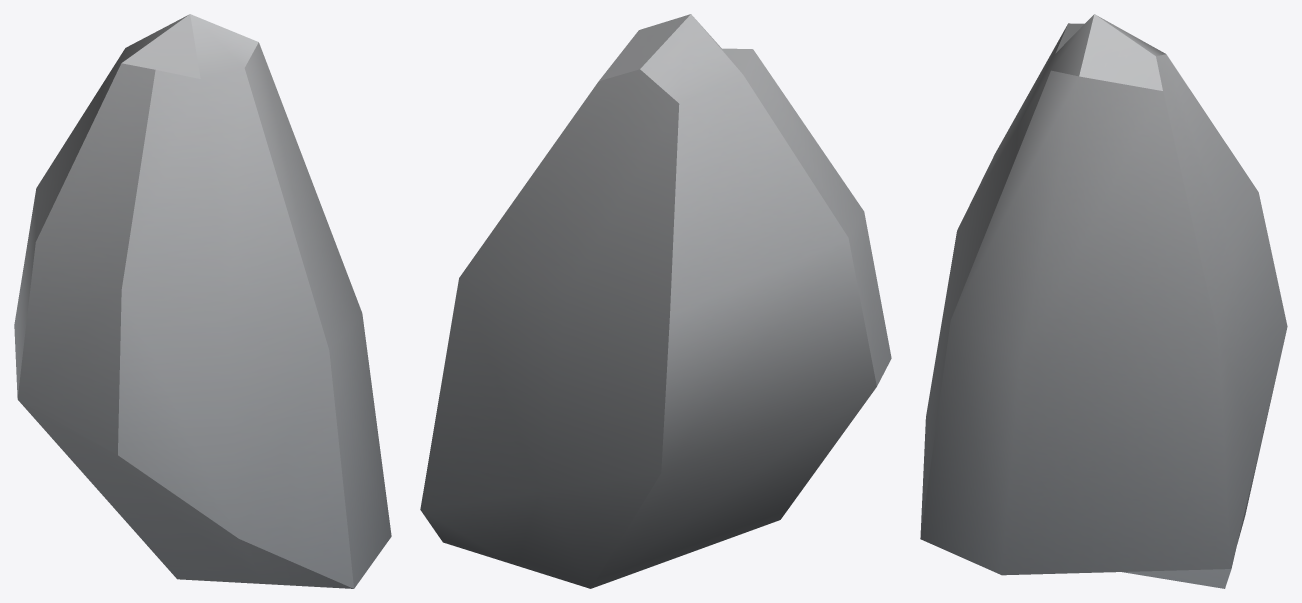
Rendered from rocaRedonda5.fbx.
The picture shows the model from 3 angles, left to right: view 1: azimuth 30°, elevation 25°; view 2: azimuth 150°, elevation 25°; view 3: azimuth 270°, elevation 25°; orthographic projection. The views are drawn at different scales.
Parts seen in each view (by area): view 1: rocaRedonda5; view 2: rocaRedonda5; view 3: rocaRedonda5.
Boxes of the visible parts, x1,y1,x2,y2 form: rocaRedonda5: (14, 14, 391, 588); rocaRedonda5: (420, 14, 891, 588); rocaRedonda5: (920, 14, 1287, 588).
Bounding box in the file's own units: 293 × 387 × 261.
